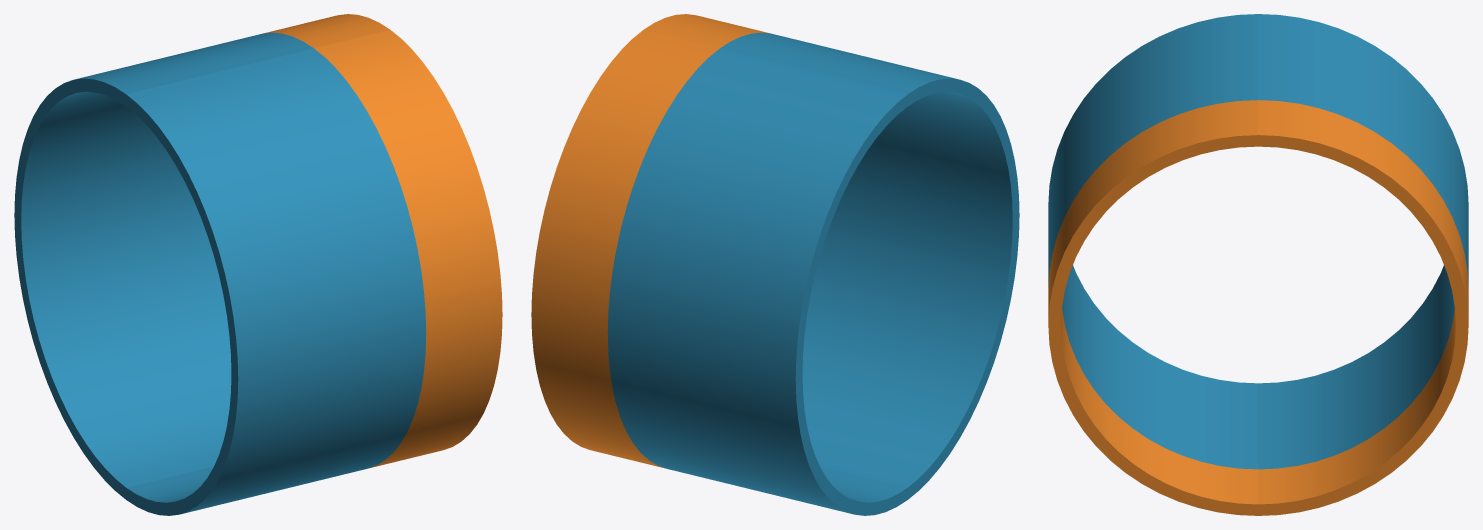
File: expander_turbine_pressure.glb
3 renders of one model, left to right at view 1: azimuth 30°, elevation 25°; view 2: azimuth 150°, elevation 25°; view 3: azimuth 270°, elevation 25°, orthographic. The views are drawn at different scales.
Parts seen in each view (by area): view 1: bands__front, bands__back; view 2: bands__back, bands__front; view 3: bands__back, bands__front.
Part boxes in pixels (x1,y1,x2,y2): bands__front: (126, 30, 502, 515); bands__back: (14, 14, 390, 499); bands__back: (531, 30, 907, 515); bands__front: (643, 14, 1019, 499); bands__back: (1258, 14, 1468, 515); bands__front: (1048, 14, 1258, 515).
Bounding box in the file's own units: 0.45 × 0.66 × 0.66.
